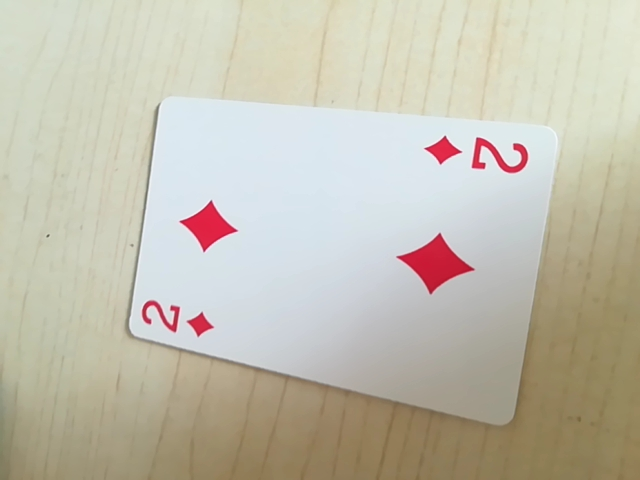fk 2: (421, 129, 534, 180), (138, 292, 222, 342)
